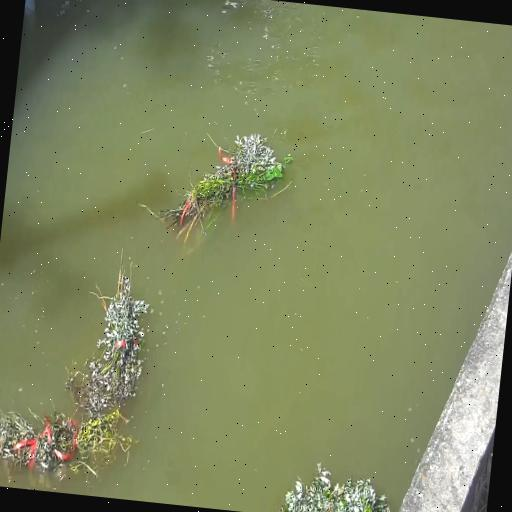twig: (151, 122, 292, 252), (72, 246, 159, 414), (0, 394, 132, 486), (274, 448, 403, 512)
